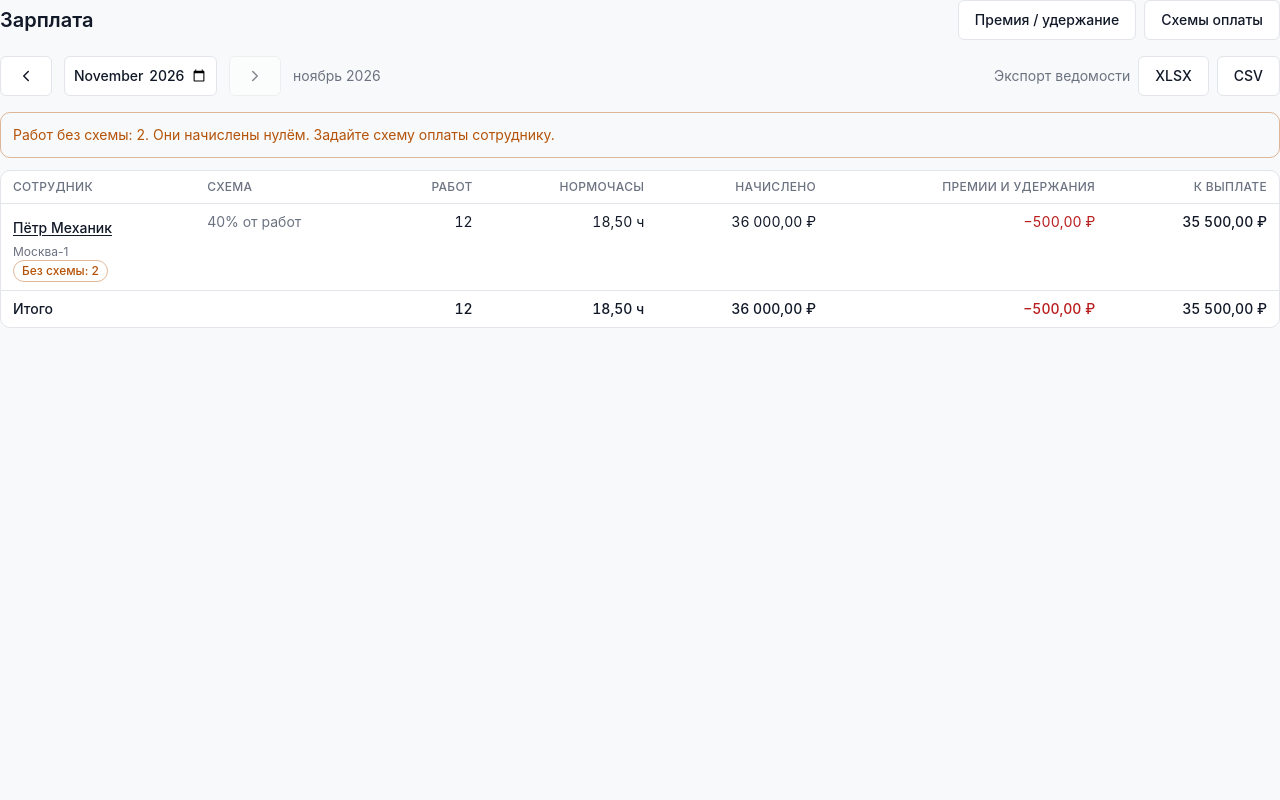
Test: D-03 зарплата › процент вне диапазона не уходит на сервер
Click the button "Пётр Механик".
click(62, 228)  # box [13,212,112,244]
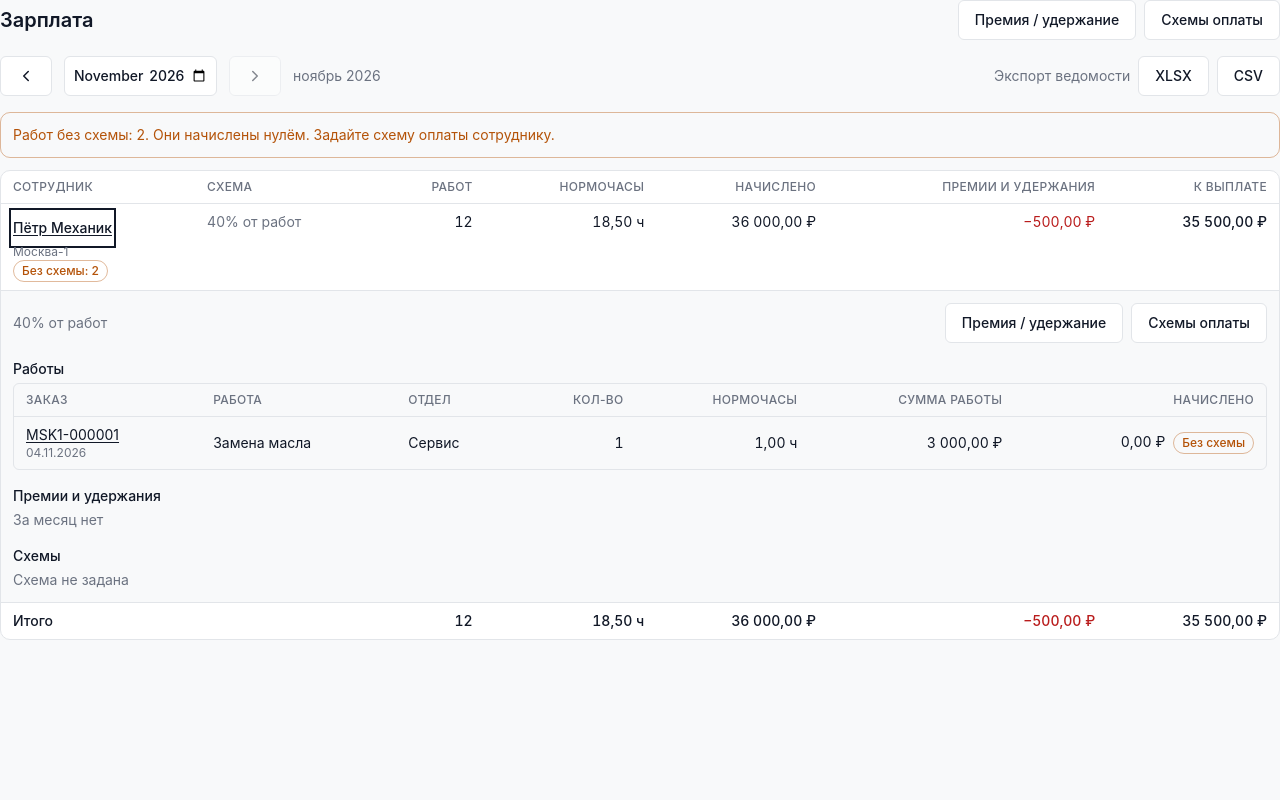
Check: the link "MSK1-000001" is shown, box [26,426,119,443]
Click the 2nd button "Схемы оплаты".
click(1199, 323)  # box [1131,303,1267,343]
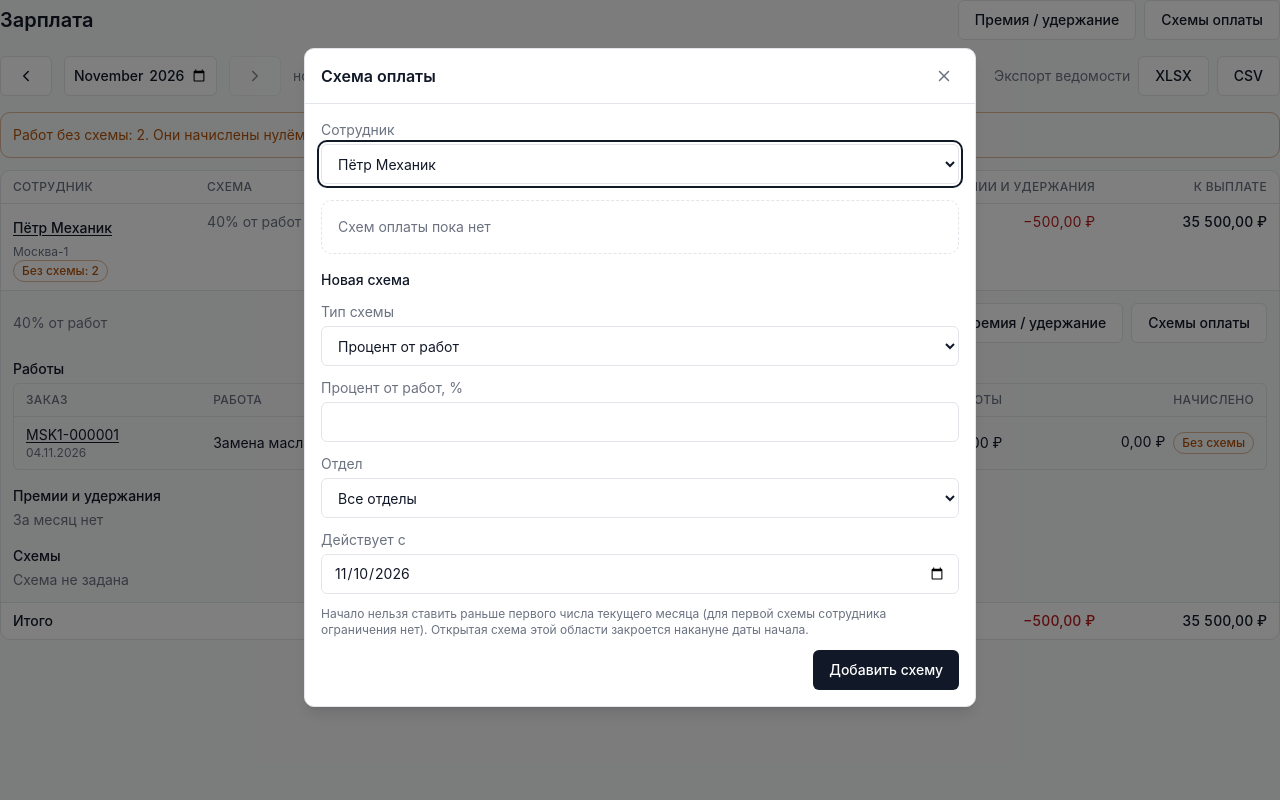
Type "150" into the field labelled "Процент от работ, %".
click(640, 422); type("150")  # box [321,402,959,442]
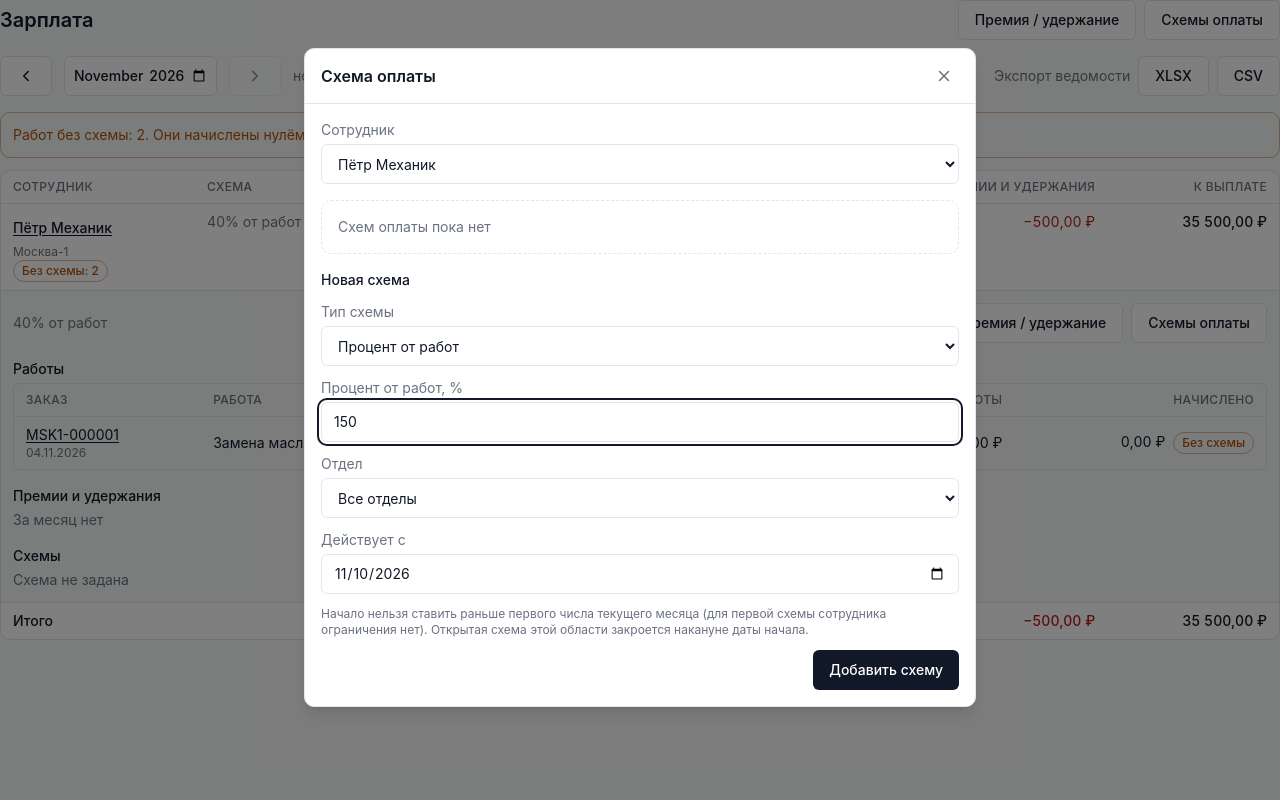
Click the button "Добавить схему".
click(886, 670)  # box [813,650,959,690]
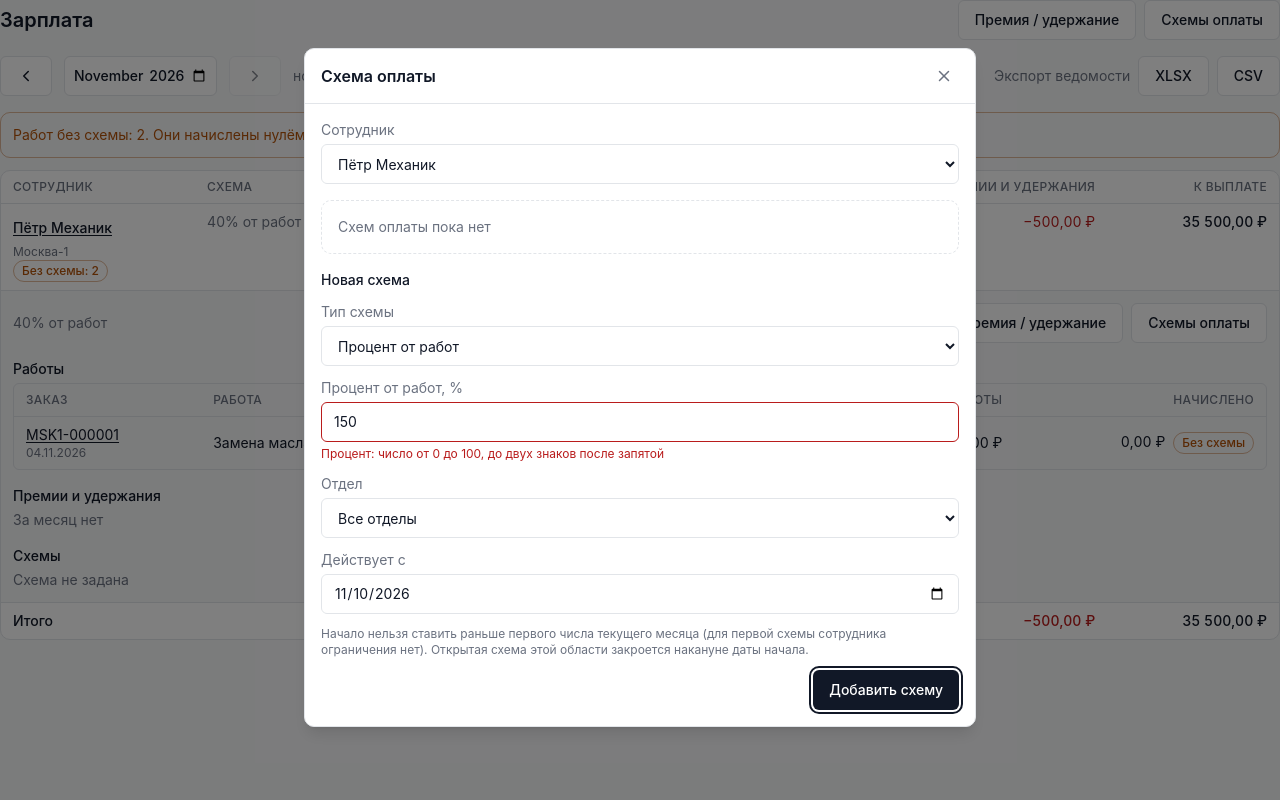
Check: the text "Процент: число от 0 до 100, до двух знаков после запятой" is shown, box [321,446,664,461]
